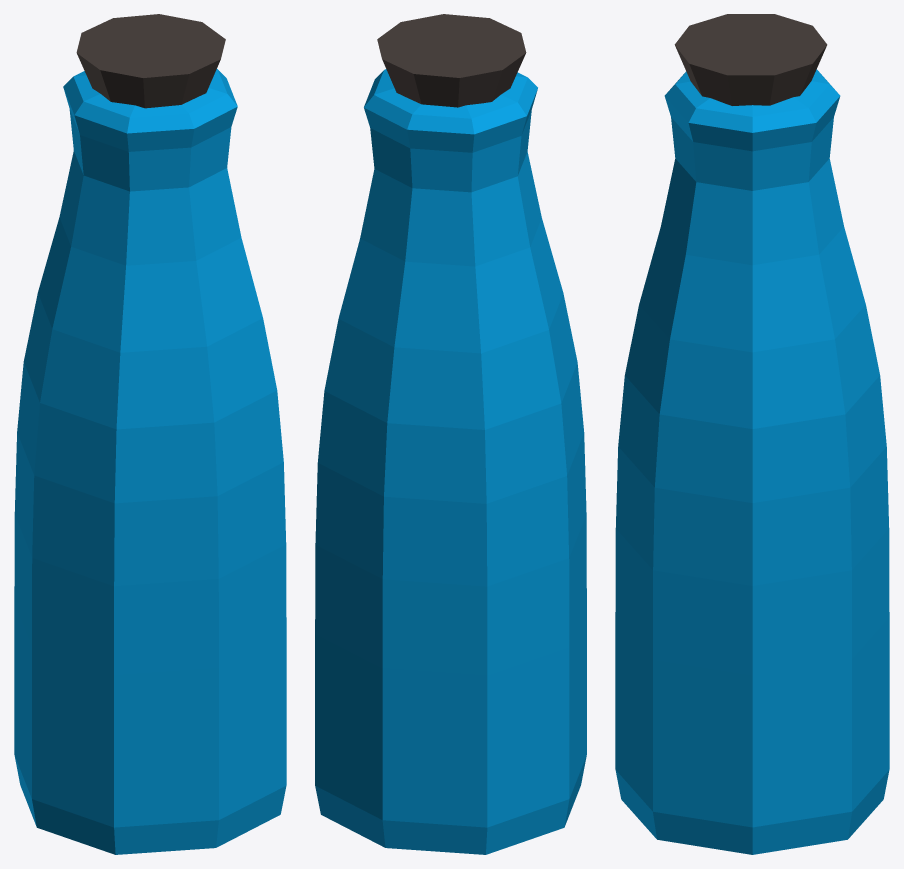
File: Mana_Potion.fbx
3 views of the same model, side by side, from view 1: azimuth 30°, elevation 25°; view 2: azimuth 150°, elevation 25°; view 3: azimuth 270°, elevation 25° (orthographic).
Parts seen in each view (by area): view 1: Mana Potion; view 2: Mana Potion; view 3: Mana Potion.
Boxes of the visible parts, x1,y1,x2,y2 form: Mana Potion: (14, 14, 286, 854); Mana Potion: (315, 14, 586, 854); Mana Potion: (615, 14, 889, 854).
Size of the model in its own units: 11.44 by 35.1 by 11.44.
